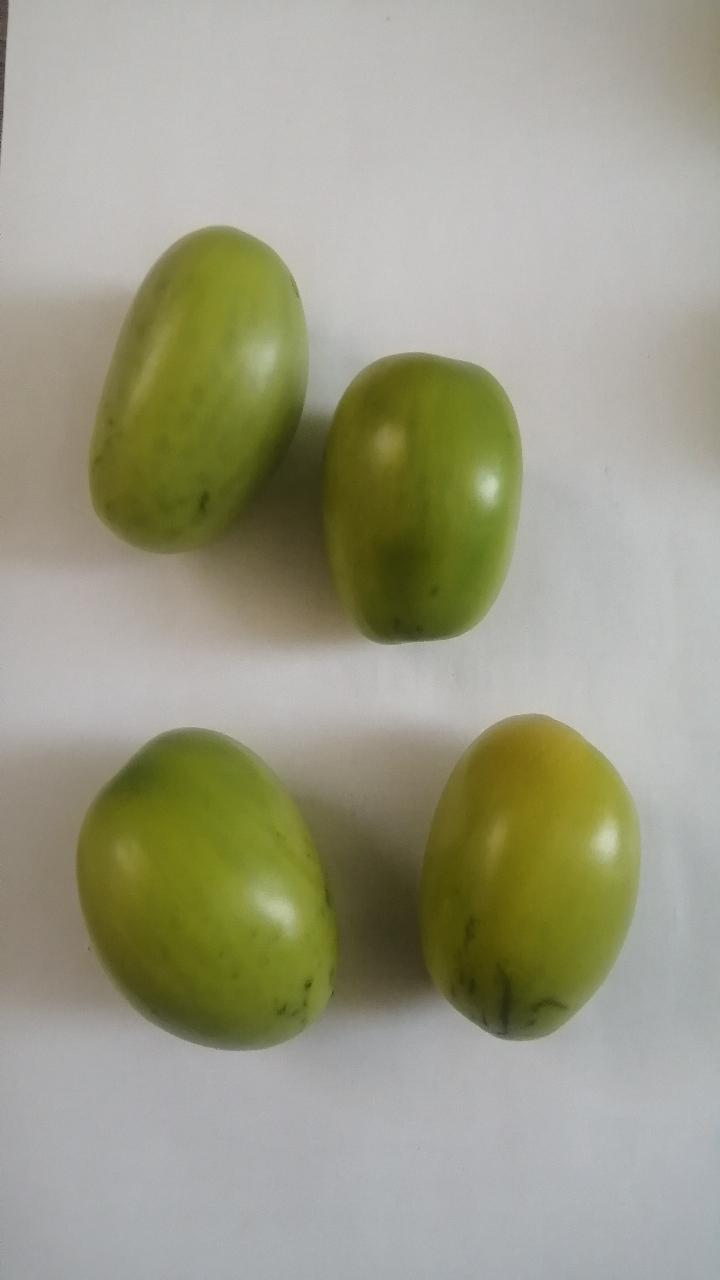tomateVerde: (64, 709, 349, 1071), (389, 694, 655, 1072), (303, 302, 543, 672), (80, 202, 301, 586)
